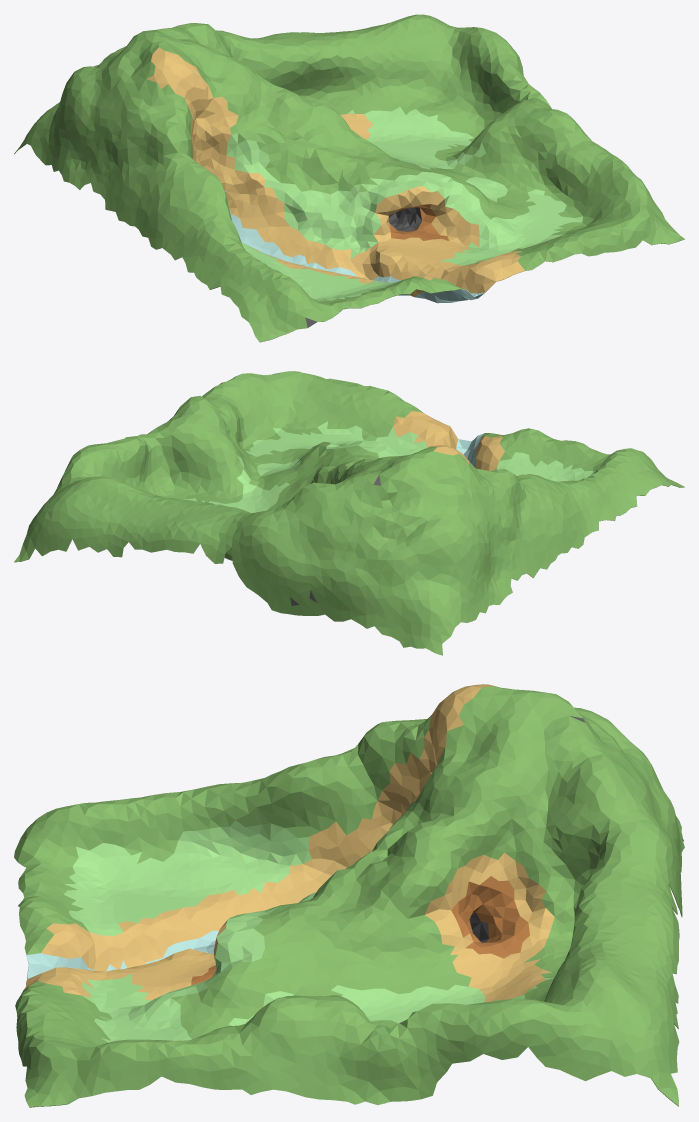
3 renders of one model, top to bottom at view 1: azimuth 30°, elevation 25°; view 2: azimuth 150°, elevation 25°; view 3: azimuth 270°, elevation 25°, orthographic. The views are drawn at different scales.
Parts seen in each view (by area): view 1: Plane; view 2: Plane; view 3: Plane.
Part boxes in pixels (x1,y1,x2,y2): Plane: [14, 14, 684, 342]; Plane: [14, 371, 684, 655]; Plane: [14, 684, 684, 1107].
Bounding box in the file's own units: 1632 × 676 × 1641.
